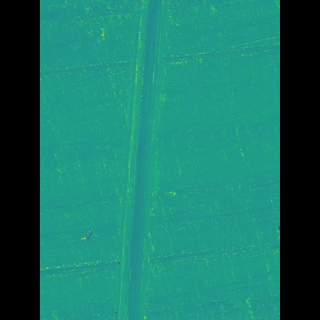Loch: (126, 0, 170, 320)
